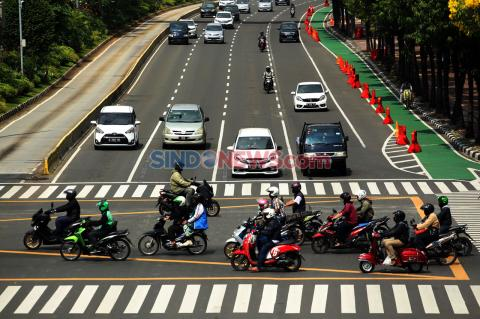plate: (248, 163, 261, 169), (318, 159, 332, 164), (108, 138, 119, 142), (178, 136, 188, 140), (306, 103, 316, 107)
